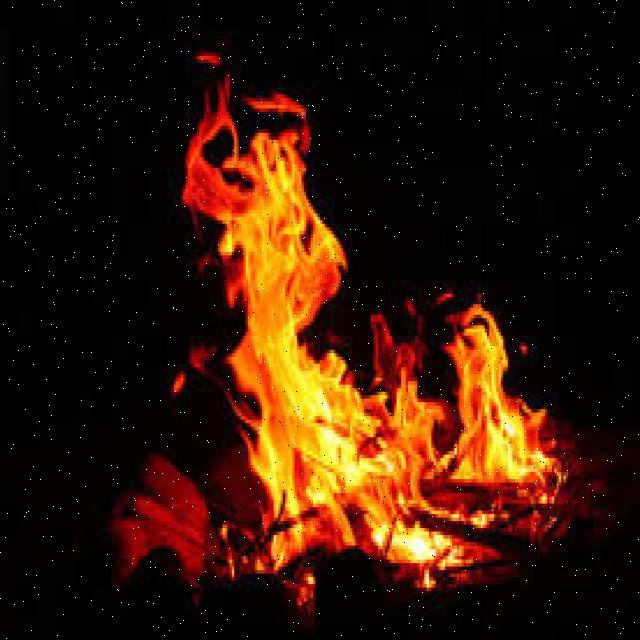fire: (163, 58, 576, 585)
